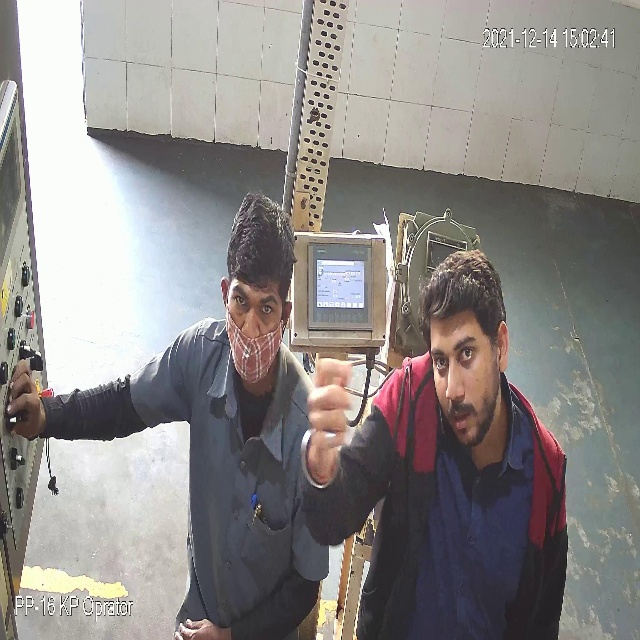Sin_gafas: (430, 333, 488, 375), (228, 286, 282, 324)
Sin_mascara: (434, 379, 492, 444)
